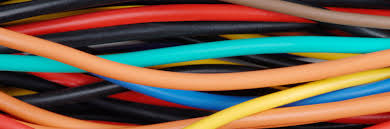more_tube: (5, 2, 377, 129)
